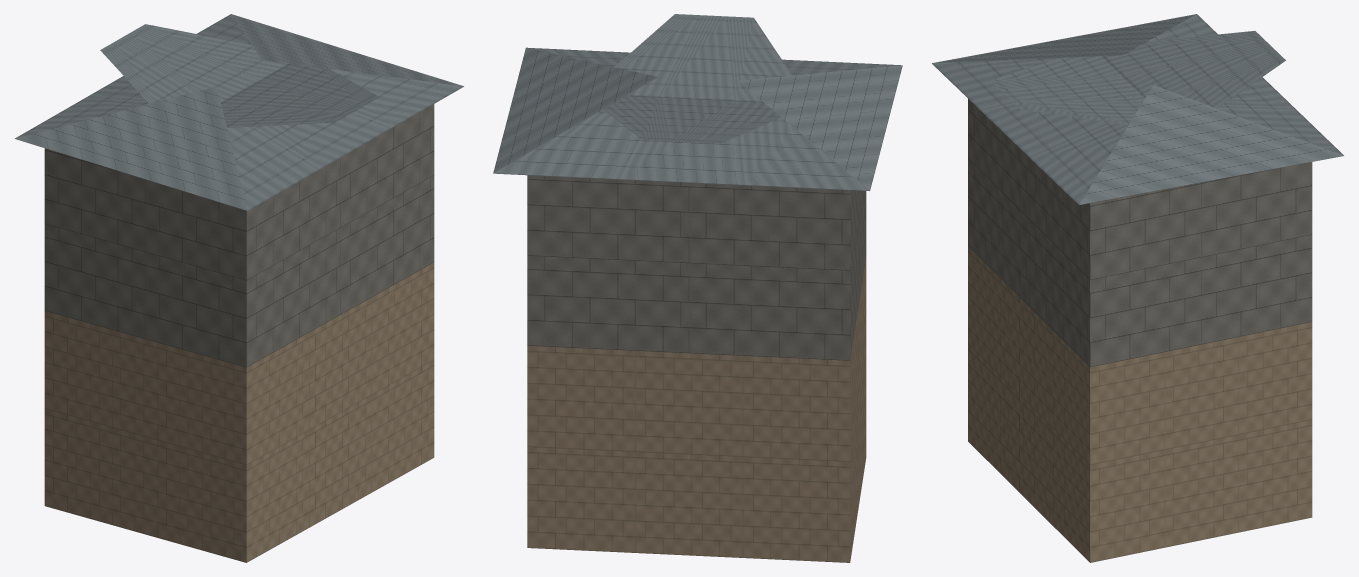
The model's file is bld_c26_20_559.gltf.
3 views of the same model, side by side, from view 1: azimuth 30°, elevation 25°; view 2: azimuth 150°, elevation 25°; view 3: azimuth 270°, elevation 25° (orthographic). The views are drawn at different scales.
Parts seen in each view (by area): view 1: bld_c26_20_559; view 2: bld_c26_20_559; view 3: bld_c26_20_559.
Boxes of the visible parts, left/top/right/bottom form: bld_c26_20_559: left=15, top=14, right=463, bottom=562; bld_c26_20_559: left=493, top=14, right=902, bottom=562; bld_c26_20_559: left=932, top=14, right=1343, bottom=562.
Size of the model in its own units: 10.42 by 10.4 by 9.52.
Materials: 3 (3 with a texture image).
